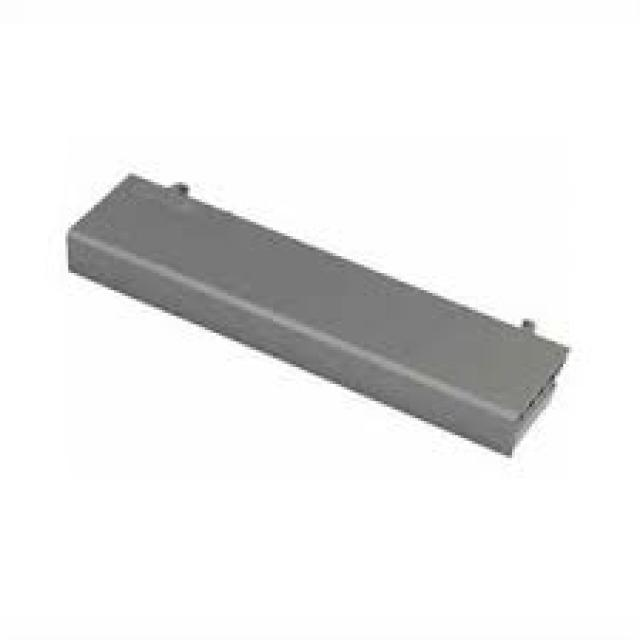non-organic waste: (69, 165, 568, 456)
